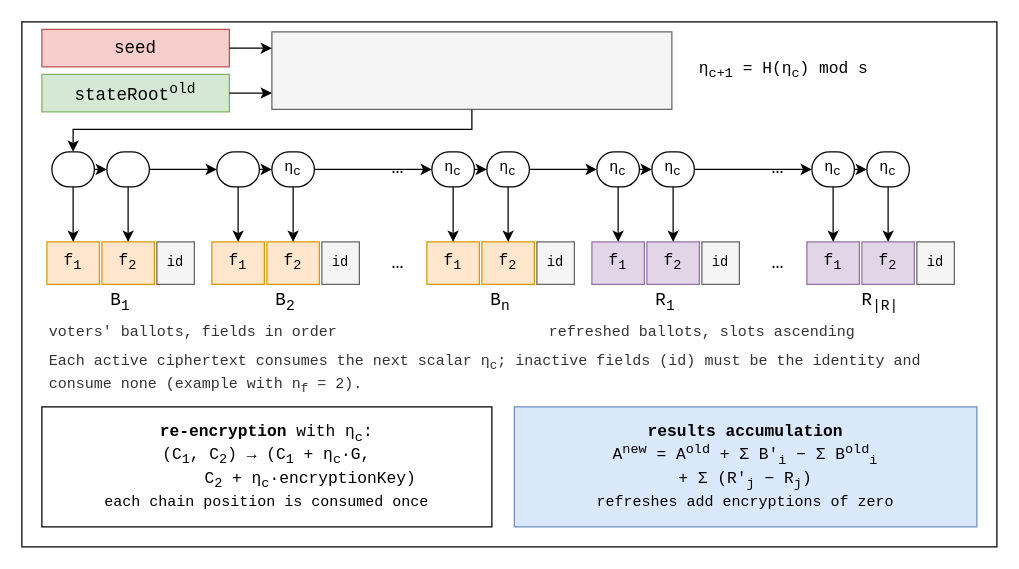
Image size: 1019x569. Some labels were removed from this diagram. Here are the shapes that lost their labels. From the top down, the box of each, then its label:
(271, 31, 672, 109): η 0 = H("davinci-reenc-v1" || seed || stateRoot old ) mod s
(51, 151, 94, 187): η 0
(106, 151, 149, 187): η 1
(216, 151, 259, 187): η 2
